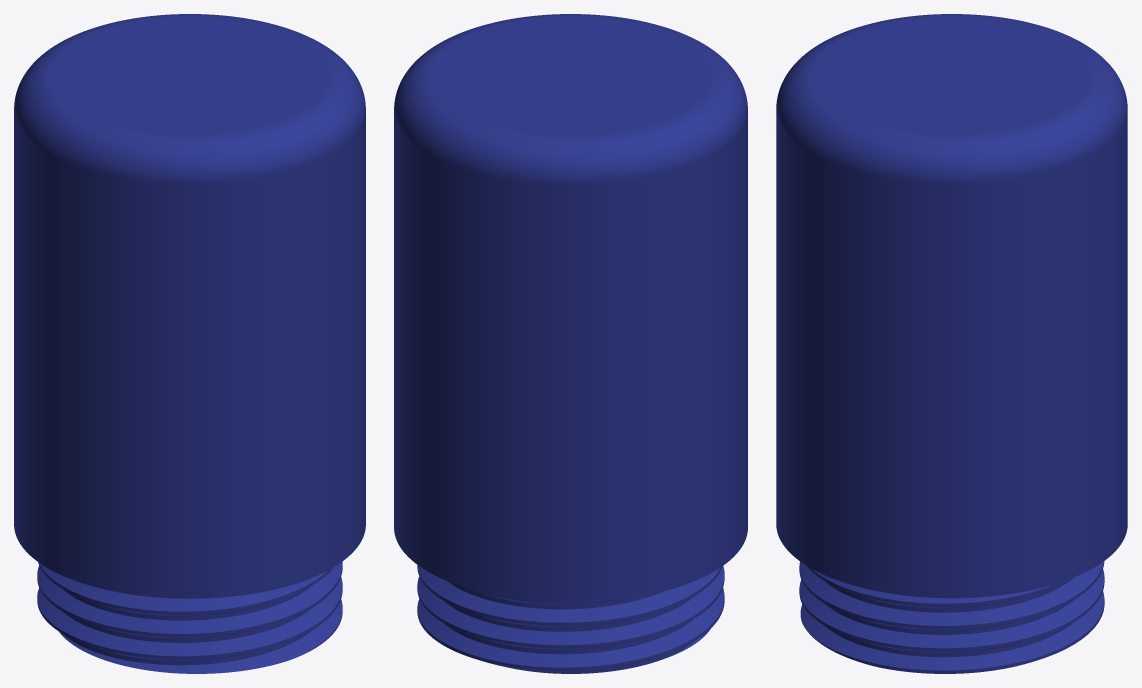
File: vessle.obj
The picture shows the model from 3 angles, left to right: view 1: azimuth 30°, elevation 25°; view 2: azimuth 150°, elevation 25°; view 3: azimuth 270°, elevation 25°; orthographic projection.
Parts seen in each view (by area): view 1: Body1; view 2: Body1; view 3: Body1.
Boxes of the visible parts, box(x1,y1,x2,y2) form: Body1: box(14, 14, 365, 673); Body1: box(394, 14, 747, 673); Body1: box(776, 14, 1127, 673).
Size of the model in its own units: 28.6 by 48 by 28.6.
